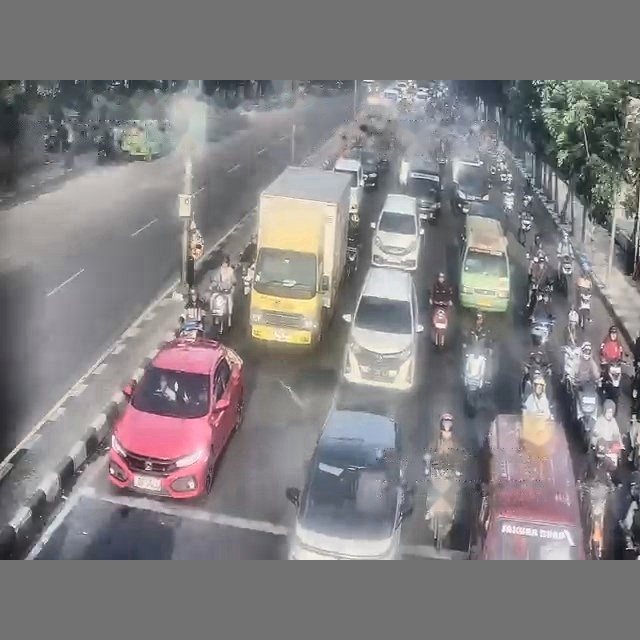Bis: (459, 215, 510, 312)
Mobil: (108, 338, 244, 498), (286, 407, 413, 559), (343, 267, 423, 391), (370, 193, 424, 271)
Motor: (424, 454, 461, 552), (463, 342, 487, 416), (209, 284, 232, 339), (530, 309, 554, 347), (602, 360, 622, 404), (432, 302, 449, 347), (577, 278, 591, 329), (557, 255, 573, 294), (176, 320, 204, 339), (517, 210, 532, 245), (345, 239, 358, 277), (242, 263, 254, 295)
Truk: (249, 166, 350, 345)
